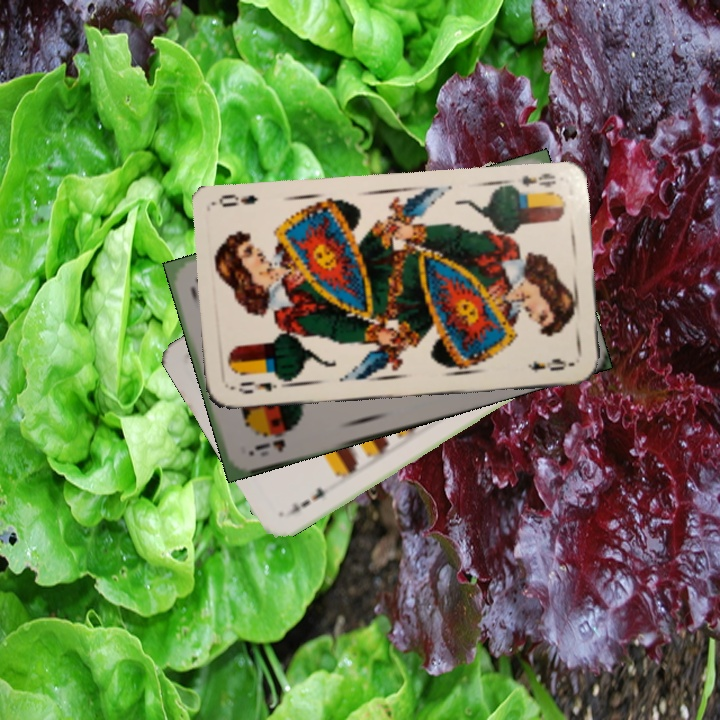E7: (282, 483, 328, 518)
EO: (234, 377, 280, 397), (518, 168, 559, 190)
SO: (250, 425, 299, 454)
